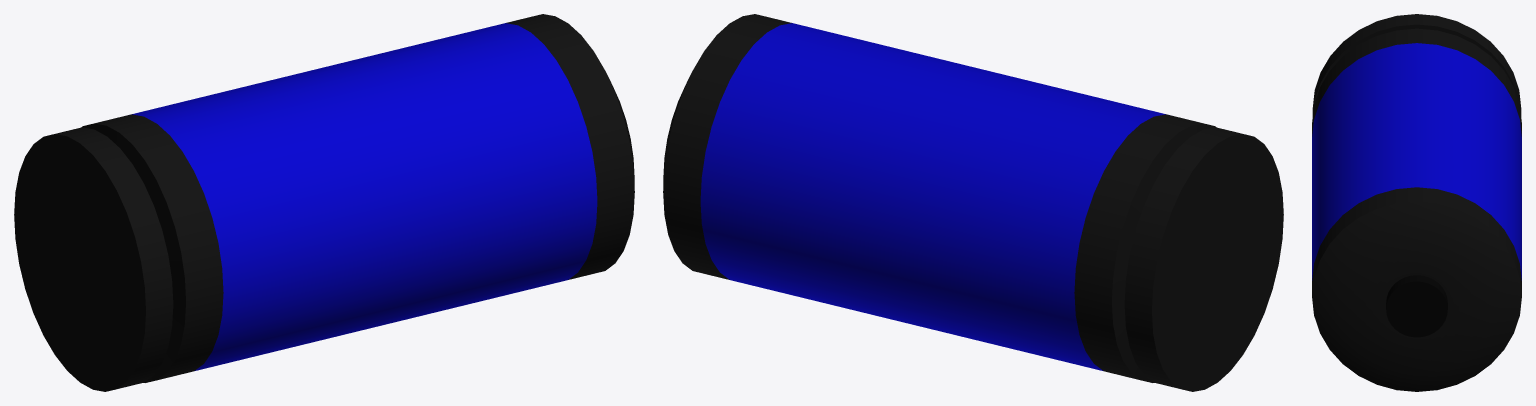
The model's file is ParticleAmmo.obj.
The picture shows the model from 3 angles, left to right: view 1: azimuth 30°, elevation 25°; view 2: azimuth 150°, elevation 25°; view 3: azimuth 270°, elevation 25°; orthographic projection. The views are drawn at different scales.
Bounding box in the file's own units: 3.32 × 1.47 × 1.47.
